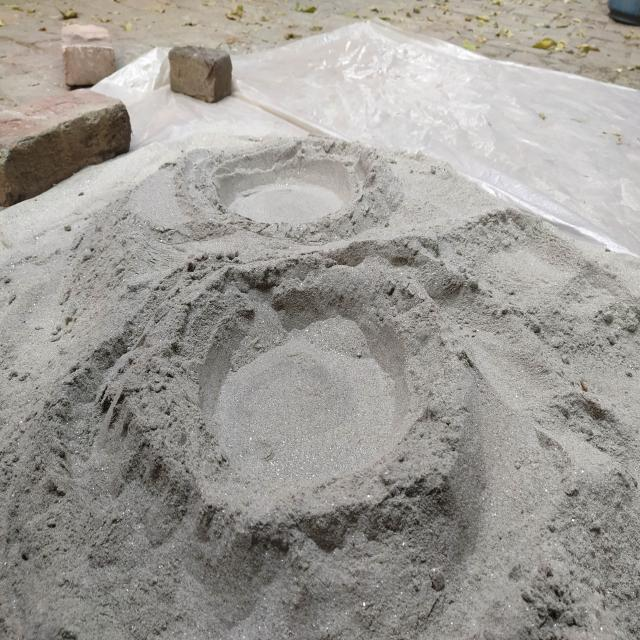C20: (196, 277, 409, 497), (212, 142, 358, 225)
